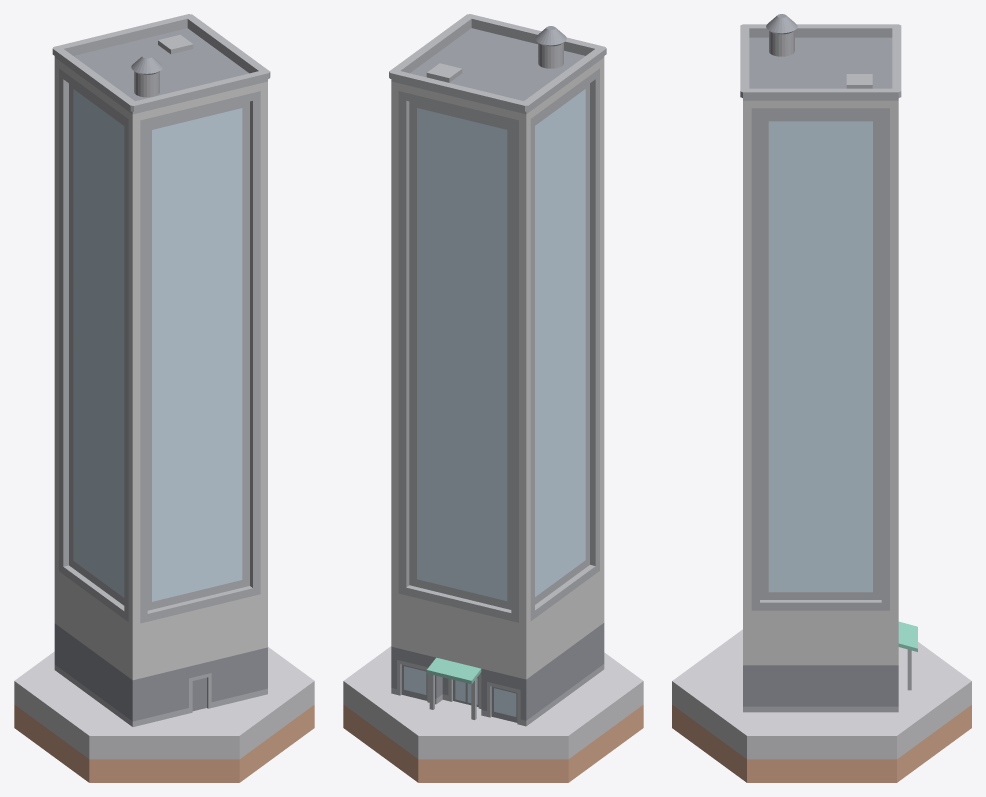
Rendered from skyscraper_1_high.fbx.
3 views of the same model, side by side, from view 1: azimuth 30°, elevation 25°; view 2: azimuth 150°, elevation 25°; view 3: azimuth 270°, elevation 25° (orthographic).
Parts seen in each view (by area): view 1: skyscraperD.001, pavement_high.003; view 2: skyscraperD.001, pavement_high.003; view 3: skyscraperD.001, pavement_high.003.
Part boxes in pixels (x1=…): skyscraperD.001: x1=52, y1=14, x2=270, y2=726; pavement_high.003: x1=14, y1=647, x2=314, y2=782; skyscraperD.001: x1=389, y1=14, x2=606, y2=726; pavement_high.003: x1=343, y1=646, x2=643, y2=782; skyscraperD.001: x1=740, y1=14, x2=917, y2=712; pavement_high.003: x1=672, y1=629, x2=971, y2=782.
Bounding box in the file's own units: 100 × 295 × 115.
